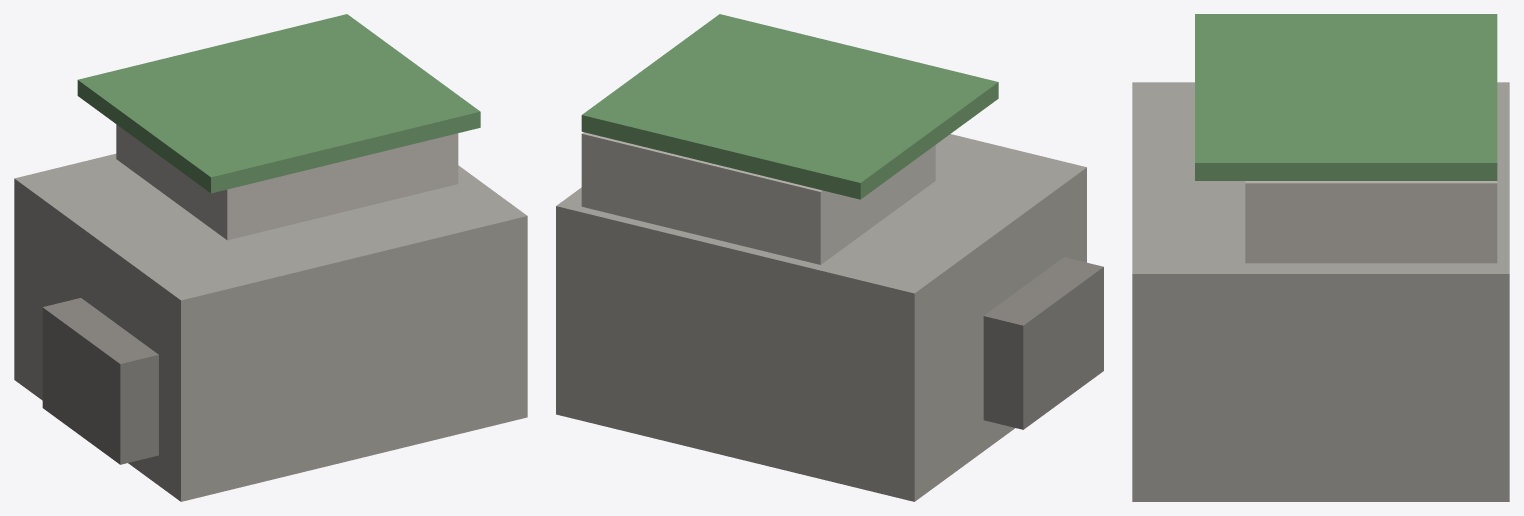
The model's file is prop_lakeboulder.glb.
The picture shows the model from 3 angles, left to right: view 1: azimuth 30°, elevation 25°; view 2: azimuth 150°, elevation 25°; view 3: azimuth 270°, elevation 25°; orthographic projection. The views are drawn at different scales.
Parts seen in each view (by area): view 1: Prop_LakeBoulder; view 2: Prop_LakeBoulder; view 3: Prop_LakeBoulder.
Part boxes in pixels (<box>): Prop_LakeBoulder: <box>14,14,527,501</box>; Prop_LakeBoulder: <box>556,14,1103,501</box>; Prop_LakeBoulder: <box>1132,14,1509,501</box>.
Size of the model in its own units: 2 by 1.44 by 1.5.
